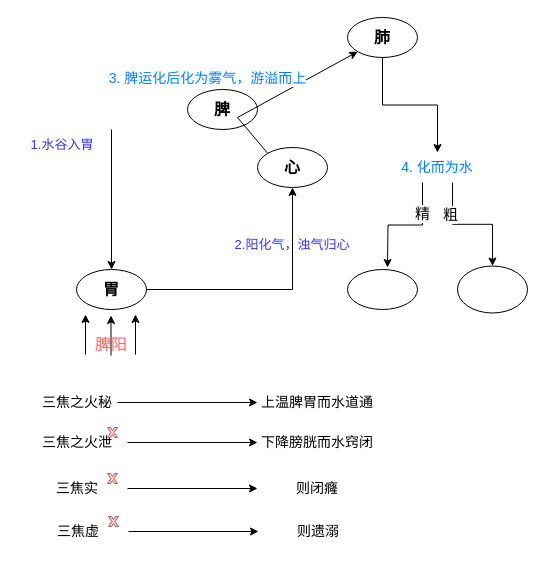
Image size: 545x564. Some labels were removed from this diagram. Each missing label, with the centre of its shape:
"脏腑" belongs at point 382,289.
"膀胱" belongs at point 492,289.
